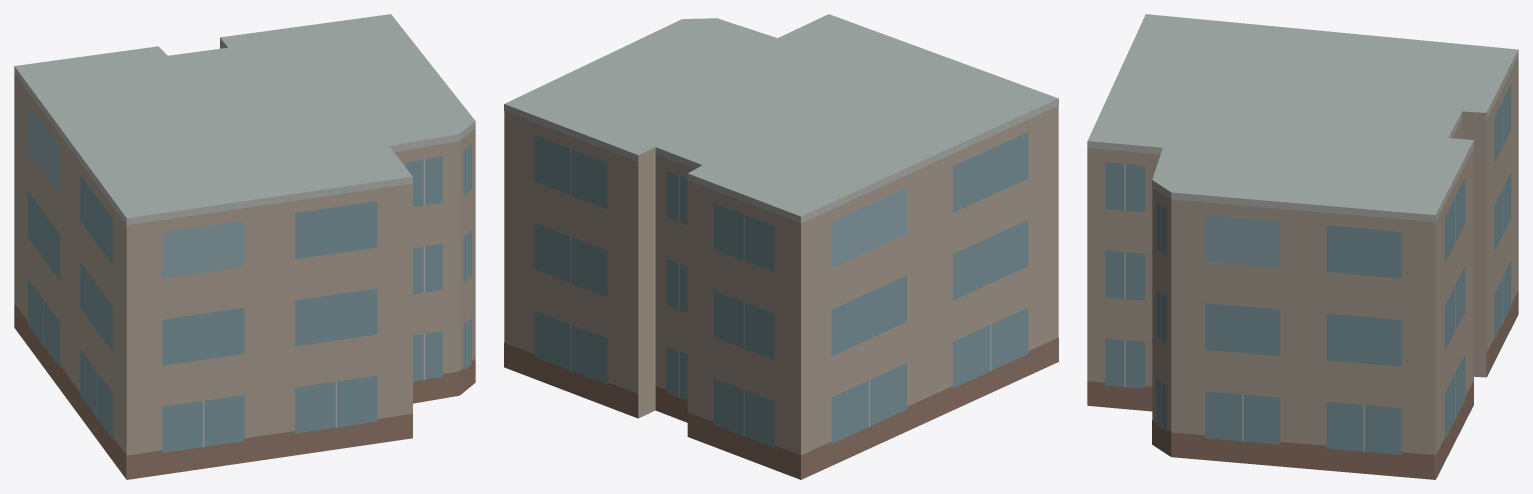
Rendered from survey-upis-32494098.glb.
The picture shows the model from 3 angles, left to right: view 1: azimuth 30°, elevation 25°; view 2: azimuth 150°, elevation 25°; view 3: azimuth 270°, elevation 25°; orthographic projection.
Parts seen in each view (by area): view 1: survey-upis-32494098.tmp; view 2: survey-upis-32494098.tmp; view 3: survey-upis-32494098.tmp.
Part boxes in pixels (<box>): survey-upis-32494098.tmp: <box>14,14,475,479</box>; survey-upis-32494098.tmp: <box>504,14,1058,479</box>; survey-upis-32494098.tmp: <box>1087,14,1518,479</box>.
Size of the model in its own units: 15.08 by 9.24 by 13.65.
